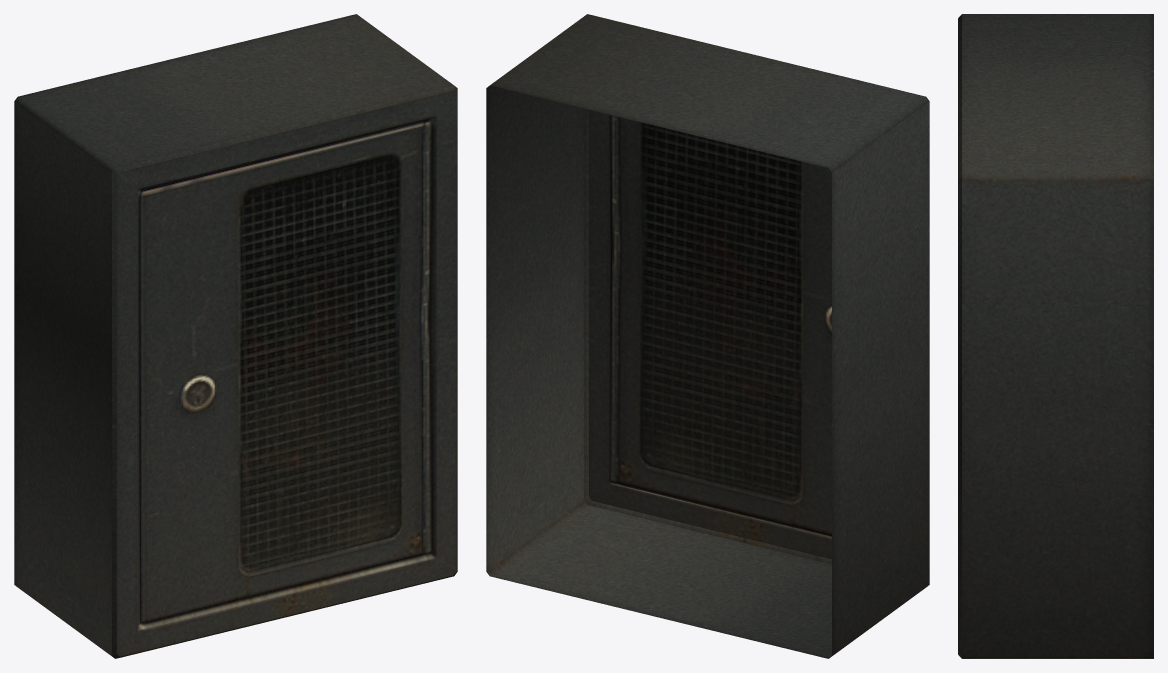
The model's file is wall_box_1.obj.
3 renders of one model, left to right at view 1: azimuth 30°, elevation 25°; view 2: azimuth 150°, elevation 25°; view 3: azimuth 270°, elevation 25°, orthographic.
Visible parts, largest first — view 1: wall_box_1; view 2: wall_box_1; view 3: wall_box_1.
Part boxes in pixels (x1,y1,x2,y2): wall_box_1: [14, 14, 457, 658]; wall_box_1: [486, 14, 929, 658]; wall_box_1: [958, 14, 1153, 658].
Size of the model in its own units: 0.491 by 0.666 by 0.245.
